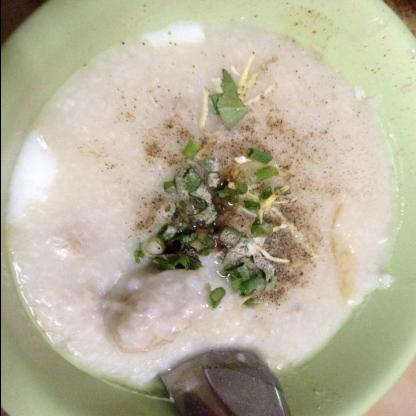Joke: (27, 29, 408, 403)
